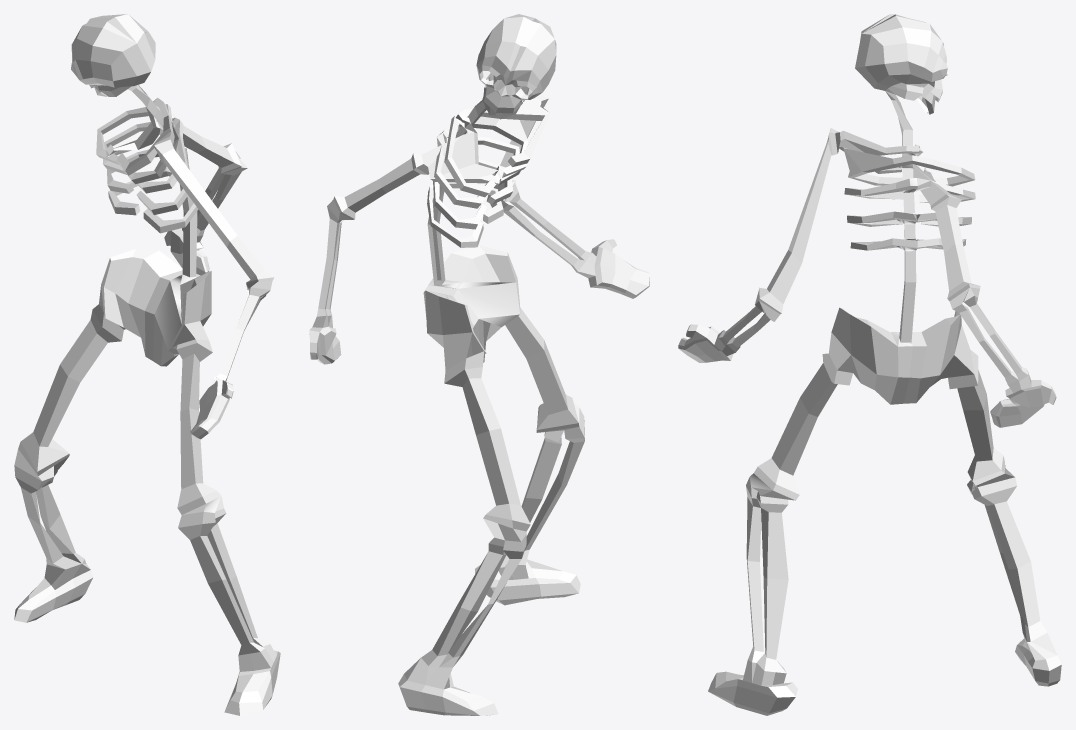
The model's file is SkeletonIdle(71).obj.
3 renders of one model, left to right at view 1: azimuth 30°, elevation 25°; view 2: azimuth 150°, elevation 25°; view 3: azimuth 270°, elevation 25°, orthographic.
Visible parts, largest first — view 1: Object002; view 2: Object002; view 3: Object002.
Boxes of the visible parts, x1,y1,x2,y2 form: Object002: (14, 14, 280, 715); Object002: (309, 14, 649, 715); Object002: (678, 14, 1061, 715).
Bounding box in the file's own units: 387 × 1132 × 602.
